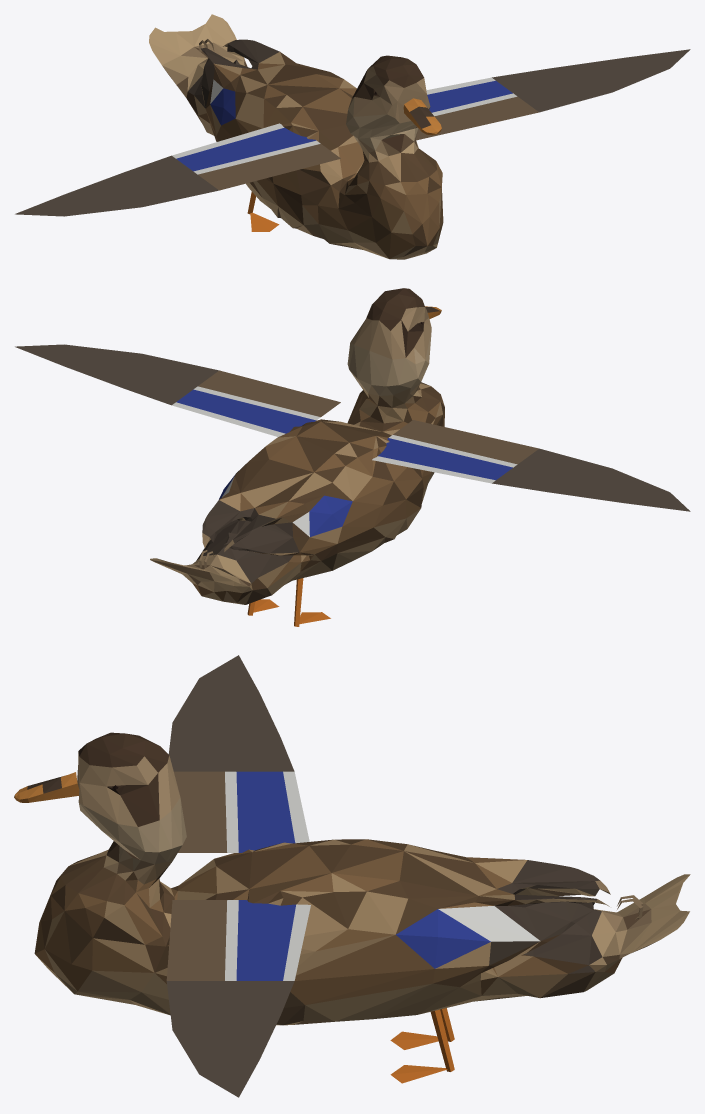
Rendered from mallard.glb.
3 views of the same model, one above another, from view 1: azimuth 30°, elevation 25°; view 2: azimuth 150°, elevation 25°; view 3: azimuth 270°, elevation 25° (orthographic). The views are drawn at different scales.
Parts seen in each view (by area): view 1: lod0; view 2: lod0; view 3: lod0.
Boxes of the visible parts, x1,y1,x2,y2 form: lod0: (15,14,690,259); lod0: (15,288,690,626); lod0: (14,655,690,1097).
Size of what is drawn, in the model's own units: 0.9 by 0.3071 by 0.5816.
